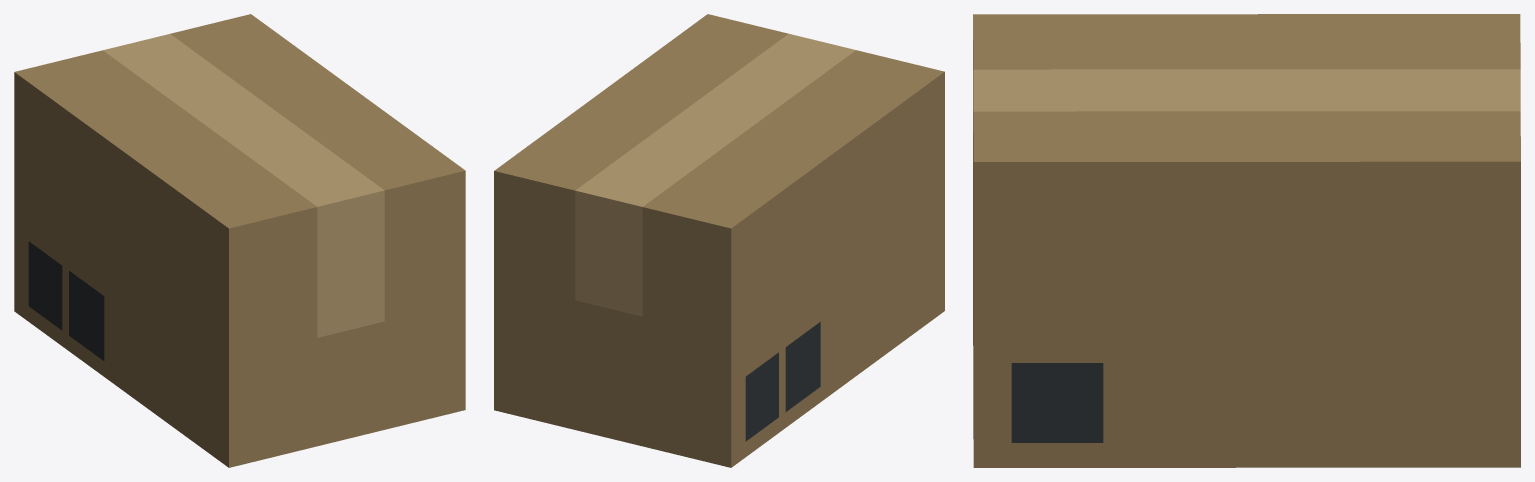
Rendered from SM_Prop_CardboardBox_05.obj.
The picture shows the model from 3 angles, left to right: view 1: azimuth 30°, elevation 25°; view 2: azimuth 150°, elevation 25°; view 3: azimuth 270°, elevation 25°; orthographic projection. The views are drawn at different scales.
Parts seen in each view (by area): view 1: SM_Prop_CardboardBox_05_M_PolygonOffice_01_A; view 2: SM_Prop_CardboardBox_05_M_PolygonOffice_01_A; view 3: SM_Prop_CardboardBox_05_M_PolygonOffice_01_A.
Part boxes in pixels (x1,y1,x2,y2): SM_Prop_CardboardBox_05_M_PolygonOffice_01_A: (14, 14, 465, 467); SM_Prop_CardboardBox_05_M_PolygonOffice_01_A: (494, 14, 944, 467); SM_Prop_CardboardBox_05_M_PolygonOffice_01_A: (973, 14, 1520, 467).
Size of the model in its own units: 0.3286 by 0.3166 by 0.5138.
Materials: 1 (1 with a texture image).
